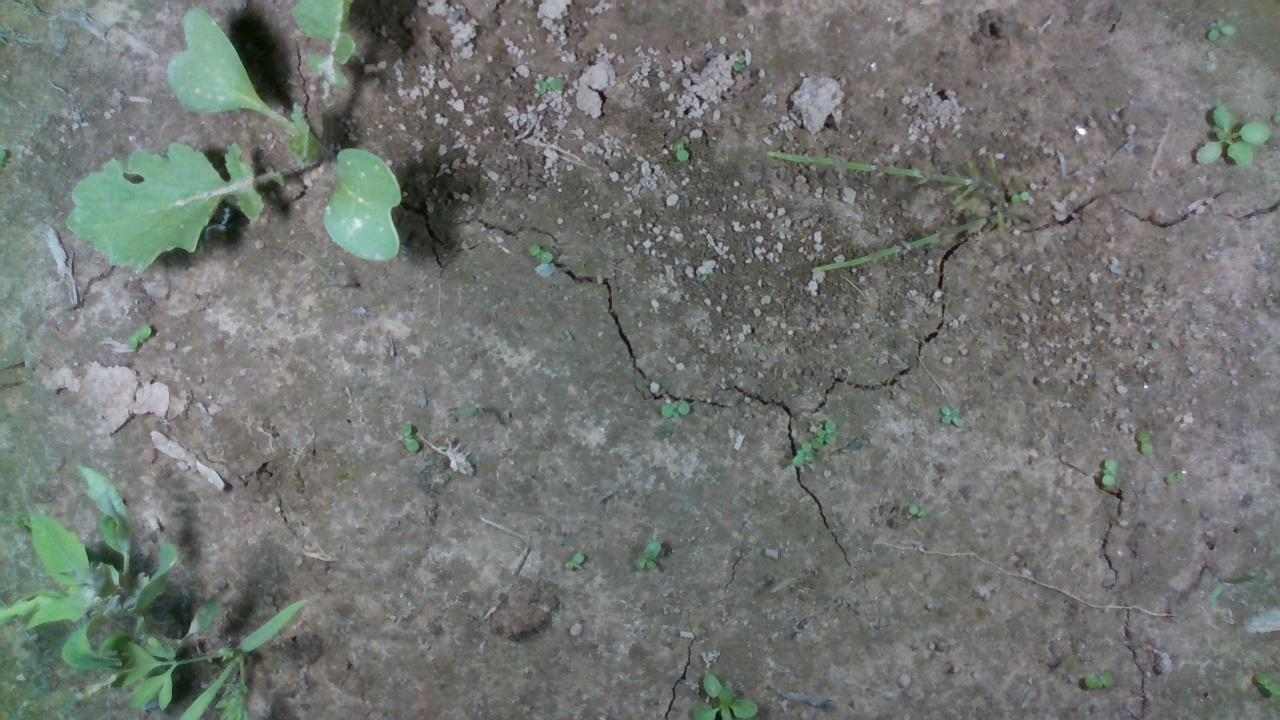weed: (933, 395, 971, 433), (523, 238, 560, 268), (654, 396, 689, 426), (393, 420, 420, 456), (1096, 453, 1118, 492), (1131, 426, 1153, 464), (664, 134, 690, 165), (536, 75, 567, 96), (563, 547, 585, 575), (640, 539, 656, 577)
